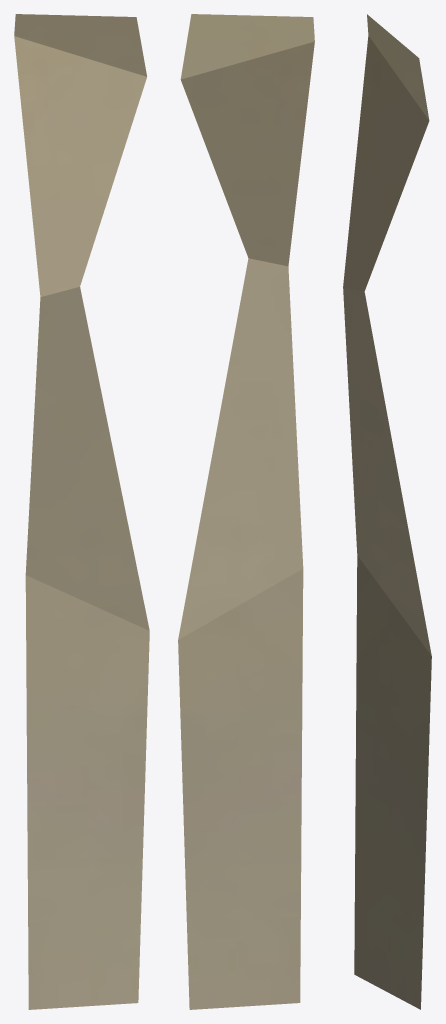
3 views of the same model, side by side, from view 1: azimuth 30°, elevation 25°; view 2: azimuth 210°, elevation 25°; view 3: azimuth 330°, elevation 25° (orthographic). The views are drawn at different scales.
Size of the model in its own units: 0.0895 by 0.8373 by 0.0536.
Materials: 1 (1 with a texture image).
